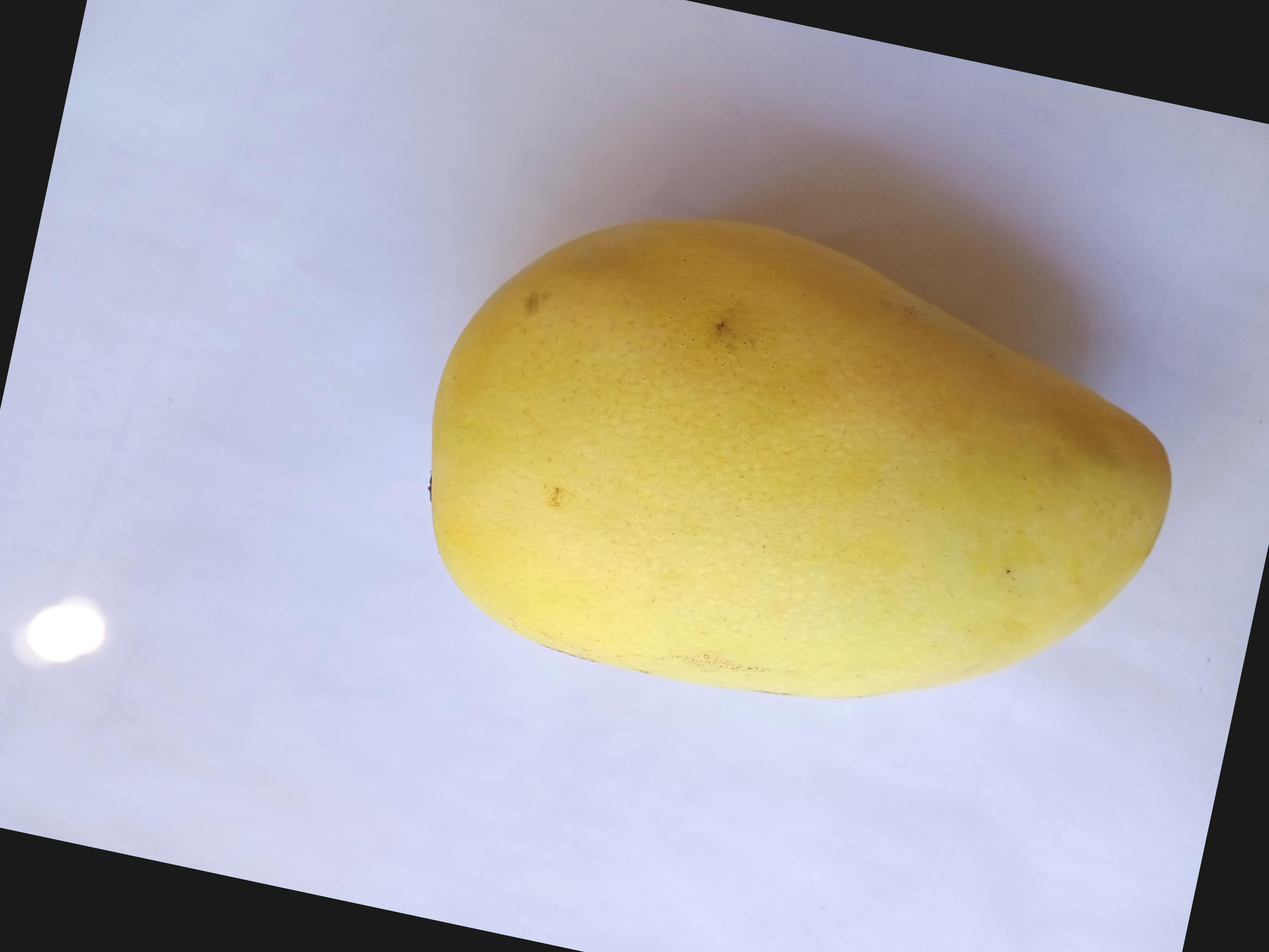Mango Ripe: (490, 0, 1269, 651)
